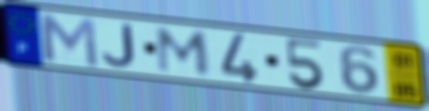4: (219, 31, 262, 85)
5: (283, 36, 325, 92)
6: (336, 44, 379, 96)
J: (100, 22, 138, 69)
M: (35, 11, 102, 70), (156, 25, 213, 78)
